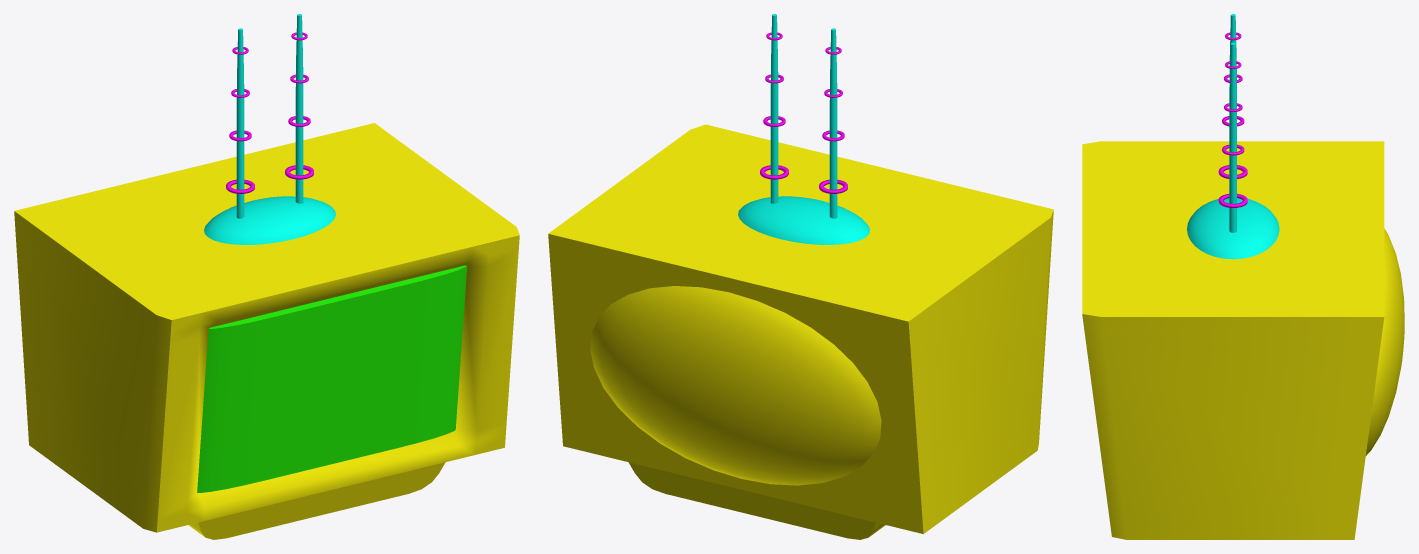
The model's file is umgebung_fernseher_low.FBX.
3 renders of one model, left to right at view 1: azimuth 30°, elevation 25°; view 2: azimuth 150°, elevation 25°; view 3: azimuth 270°, elevation 25°, orthographic.
Visible parts, largest first — view 1: o_fernseherrahmen_low, o_bildschirm_low, o_antennenfuss_low, o_antenne_low, i_antenne_low; view 2: o_fernseherrahmen_low, o_fernseherruecken_low, o_antennenfuss_low, o_antenne_low, i_antenne_low; view 3: o_fernseherrahmen_low, o_antennenfuss_low, o_fernseherruecken_low, i_antenne_low.
Boxes of the visible parts, left/top/right/bottom form: o_fernseherrahmen_low: left=14, top=123, right=519, bottom=539; o_bildschirm_low: left=197, top=265, right=467, bottom=492; o_antennenfuss_low: left=204, top=196, right=335, bottom=244; o_antenne_low: left=236, top=28, right=244, bottom=218; i_antenne_low: left=295, top=14, right=303, bottom=203; o_fernseherrahmen_low: left=548, top=124, right=1053, bottom=539; o_fernseherruecken_low: left=590, top=286, right=881, bottom=485; o_antennenfuss_low: left=738, top=196, right=869, bottom=244; o_antenne_low: left=829, top=28, right=837, bottom=218; i_antenne_low: left=770, top=14, right=778, bottom=203; o_fernseherrahmen_low: left=1082, top=141, right=1384, bottom=539; o_antennenfuss_low: left=1187, top=198, right=1279, bottom=259; o_fernseherruecken_low: left=1366, top=228, right=1404, bottom=455; i_antenne_low: left=1229, top=42, right=1236, bottom=232.
Bounding box in the file's own units: 163 × 126 × 198.
